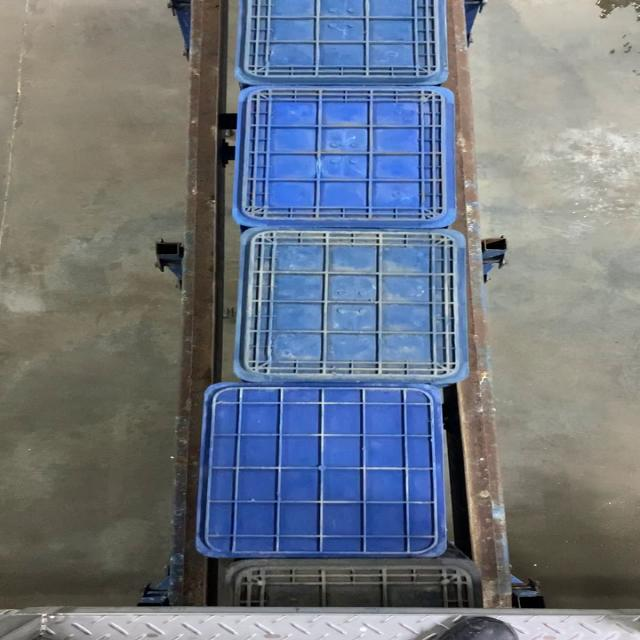Box: (195, 382, 445, 556), (229, 228, 471, 382), (232, 84, 460, 228)
